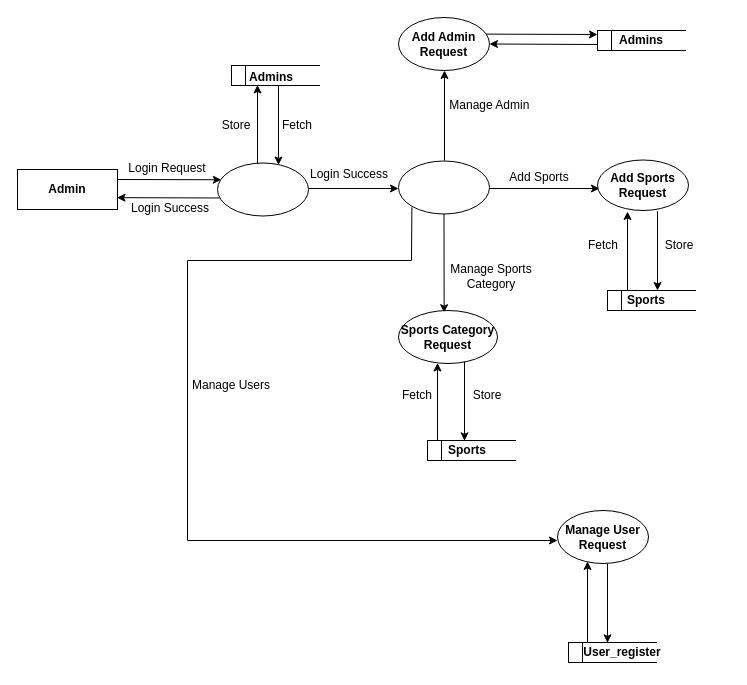
The diagram is 747 pixels wide and 685 high, and some of its shapes have lost their labels. The centre of each missing label's shape, as x and y in pixels:
Dashboard: (444,187)
Login: (262,189)
